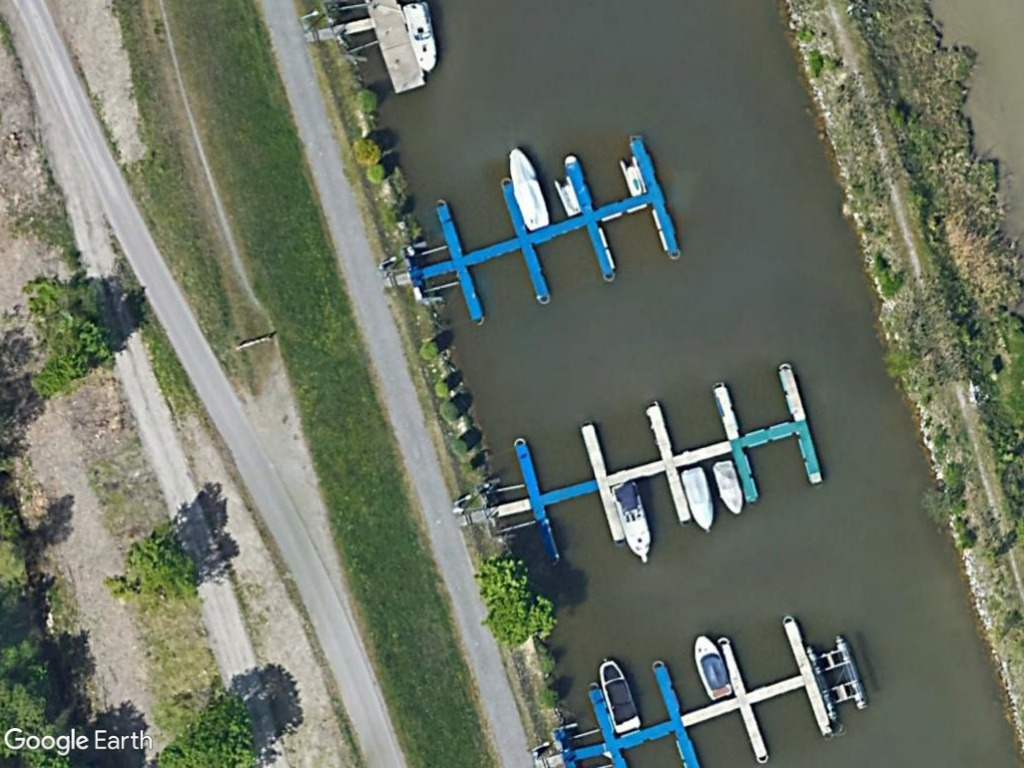boat: (604, 477, 657, 569), (504, 144, 553, 235), (597, 653, 643, 737), (688, 628, 735, 704), (679, 461, 718, 536), (710, 454, 749, 522)
